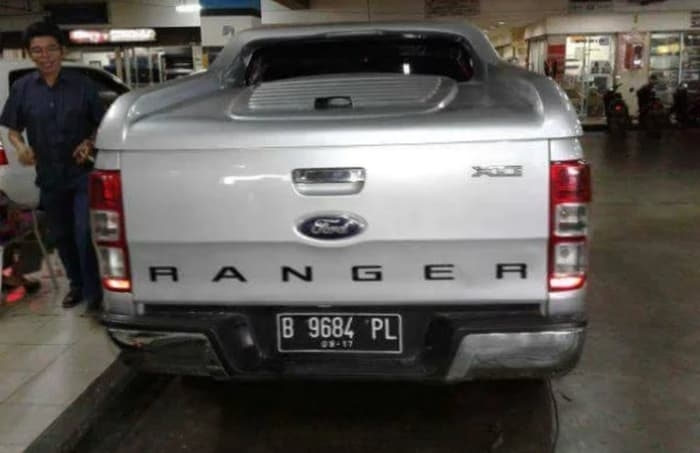plate: (276, 313, 404, 352)
